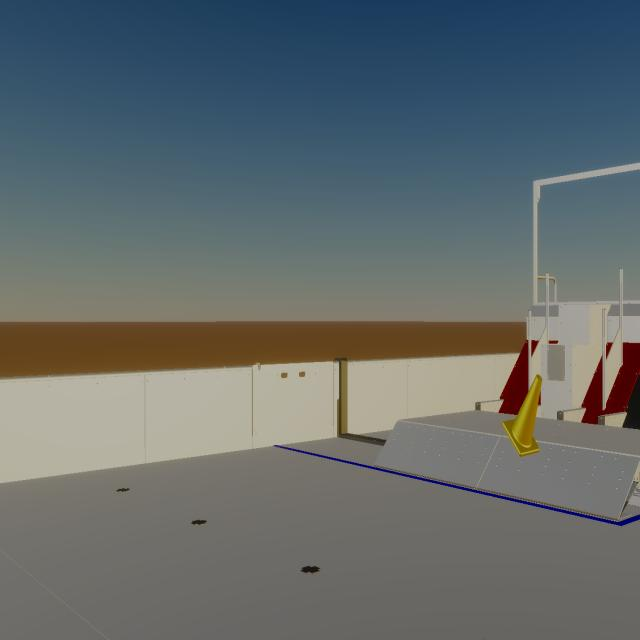frc_cone: (502, 374, 542, 457)
